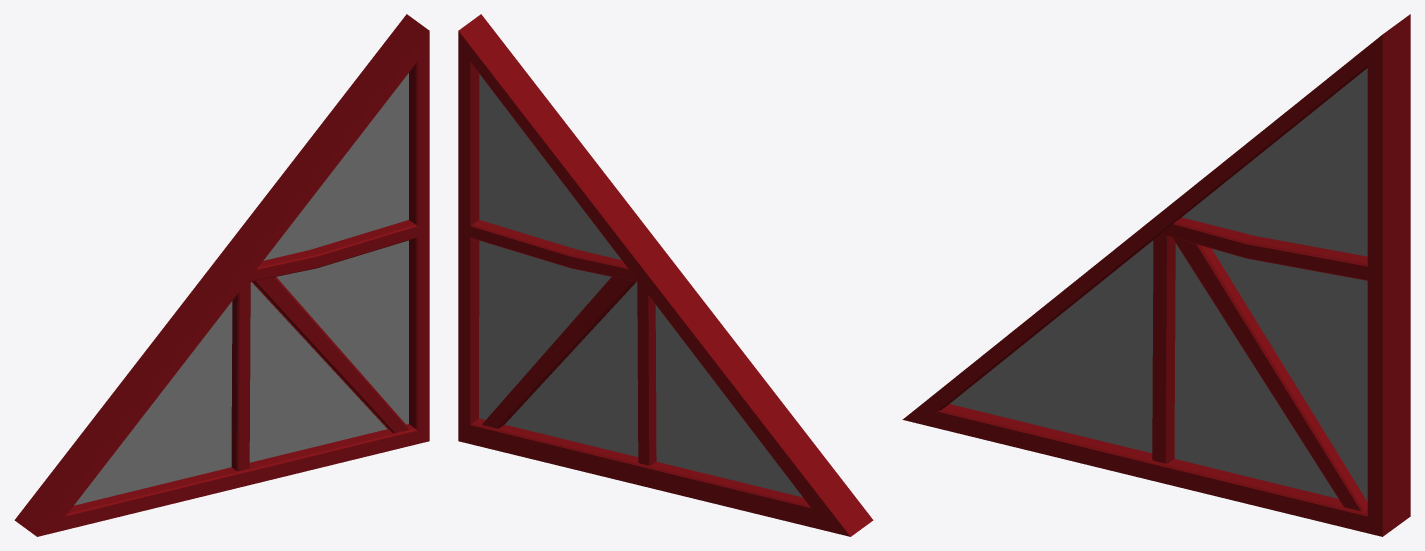
Rendered from SM_MH_01_Wood_01_Wall_Roof_L_01.fbx.
3 views of the same model, side by side, from view 1: azimuth 30°, elevation 25°; view 2: azimuth 150°, elevation 25°; view 3: azimuth 330°, elevation 25° (orthographic). The views are drawn at different scales.
Parts seen in each view (by area): view 1: SM_MH_01_Wood_01_Wall_Roof_L_01_LOD0; view 2: SM_MH_01_Wood_01_Wall_Roof_L_01_LOD0; view 3: SM_MH_01_Wood_01_Wall_Roof_L_01_LOD0.
Boxes of the visible parts, <box> form: SM_MH_01_Wood_01_Wall_Roof_L_01_LOD0: <box>14,14,429,536</box>; SM_MH_01_Wood_01_Wall_Roof_L_01_LOD0: <box>458,14,873,536</box>; SM_MH_01_Wood_01_Wall_Roof_L_01_LOD0: <box>902,14,1410,536</box>.
Size of what is drawn, in the model's own units: 300 by 300 by 30.2.
